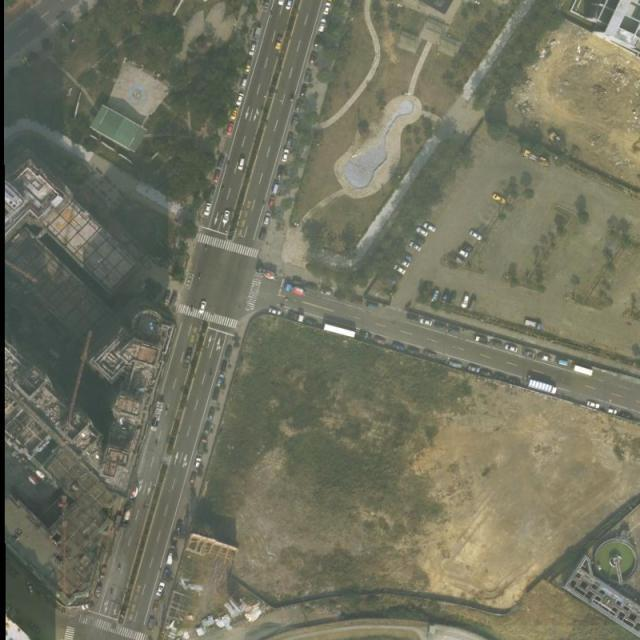vehicle: (324, 323, 357, 338), (529, 379, 558, 395), (257, 266, 279, 281), (286, 284, 307, 297), (572, 365, 594, 377), (121, 508, 133, 528), (408, 239, 423, 253), (197, 438, 208, 457), (391, 341, 408, 353), (413, 232, 427, 246), (460, 293, 471, 310), (525, 319, 542, 330), (201, 421, 212, 438), (222, 209, 233, 226), (493, 193, 507, 206), (459, 240, 474, 252), (182, 347, 194, 362), (216, 152, 228, 167), (474, 333, 490, 344), (372, 336, 388, 347), (290, 114, 301, 130), (503, 344, 520, 354), (455, 247, 469, 259), (393, 264, 407, 276), (423, 222, 437, 234), (222, 345, 234, 359), (268, 306, 282, 318), (441, 290, 452, 305), (322, 2, 333, 17), (155, 582, 166, 597), (215, 373, 226, 388), (366, 301, 382, 311), (522, 350, 538, 360), (166, 550, 176, 566), (469, 229, 483, 240), (305, 317, 319, 328), (307, 52, 318, 66), (275, 165, 286, 179), (192, 457, 203, 471), (274, 34, 283, 51), (421, 350, 438, 359), (418, 317, 433, 327), (540, 353, 555, 363), (303, 69, 313, 84), (294, 99, 304, 114), (271, 180, 281, 195), (482, 368, 494, 380), (492, 374, 508, 383), (318, 18, 327, 34), (29, 622, 41, 634), (226, 120, 234, 138), (240, 74, 249, 90), (397, 258, 410, 269), (430, 289, 441, 302), (169, 533, 179, 547), (206, 406, 216, 420), (219, 359, 229, 373), (212, 169, 222, 183), (281, 150, 291, 164), (262, 212, 272, 226), (286, 131, 294, 148), (621, 411, 636, 420), (351, 297, 366, 306), (556, 358, 571, 367), (244, 59, 253, 74), (94, 583, 103, 598), (416, 226, 428, 237), (449, 326, 462, 336), (449, 360, 462, 370), (299, 86, 309, 99), (267, 194, 275, 210), (586, 401, 600, 410), (406, 313, 420, 322), (211, 387, 220, 401), (407, 346, 421, 355), (230, 107, 239, 121), (434, 321, 446, 331), (468, 364, 480, 374), (203, 203, 211, 218), (491, 338, 504, 347), (147, 618, 156, 631), (162, 568, 171, 581), (209, 186, 218, 199), (198, 302, 207, 315), (254, 26, 262, 40), (258, 228, 266, 242), (313, 35, 322, 47), (25, 582, 34, 594), (235, 94, 244, 106), (510, 378, 523, 386), (320, 286, 333, 294), (189, 472, 197, 485), (238, 158, 246, 171), (249, 42, 256, 56), (81, 602, 93, 610), (163, 290, 171, 302), (607, 407, 618, 415), (261, 1, 269, 11), (285, 1, 293, 10), (278, 1, 285, 6), (327, 1, 334, 2)
